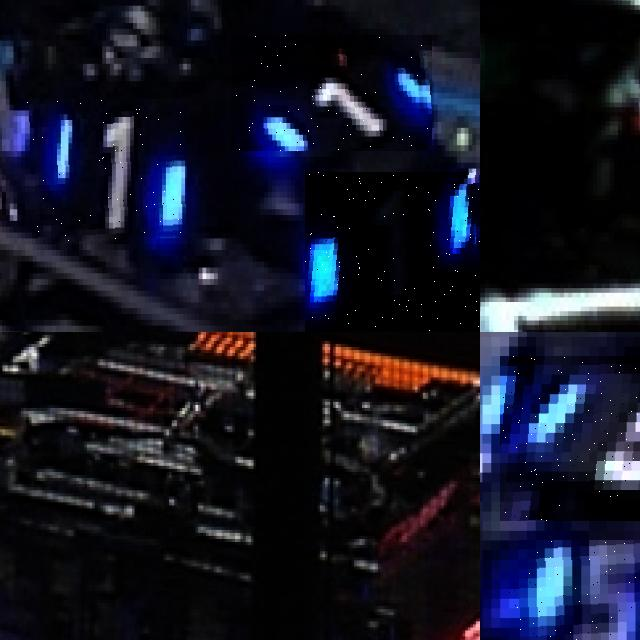B1: (304, 171, 480, 332), (25, 99, 187, 244), (231, 35, 432, 151)
B5: (500, 356, 640, 521), (509, 540, 640, 640)
